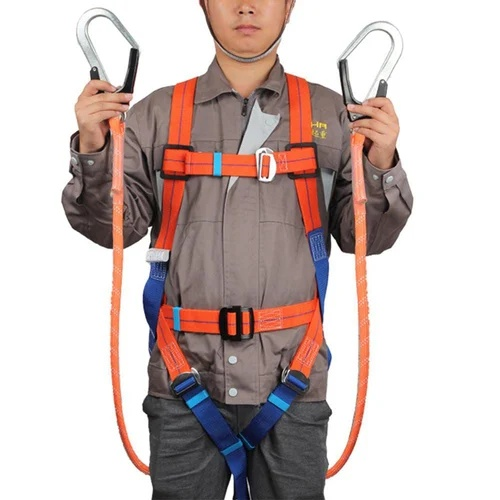Safety_Harness: (64, 8, 407, 480)
